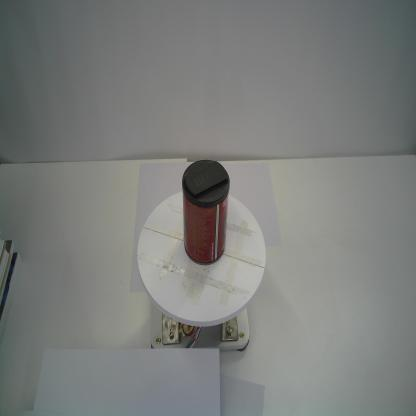Canned Food: (180, 158, 232, 265)
